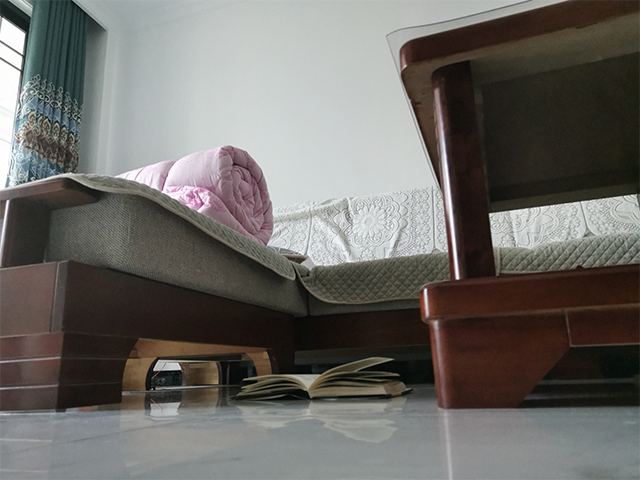book: (227, 354, 417, 403)
curtain: (2, 2, 86, 173)
sofa: (1, 178, 424, 415)
table: (383, 1, 640, 411)
